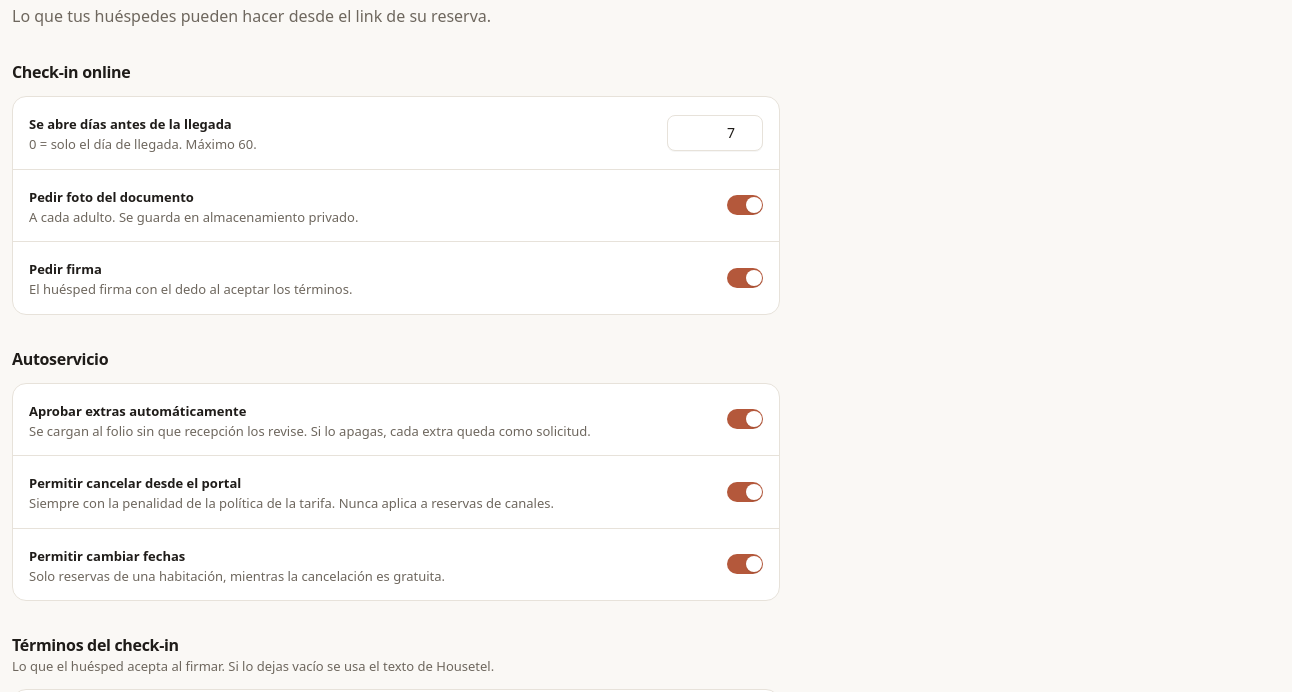
Test case: Guest portal settings › saves only what changed
Replace the text in the number field labelled "Se abre días antes de la llegada" with "3" at (715, 133), box [667,115,763,151]
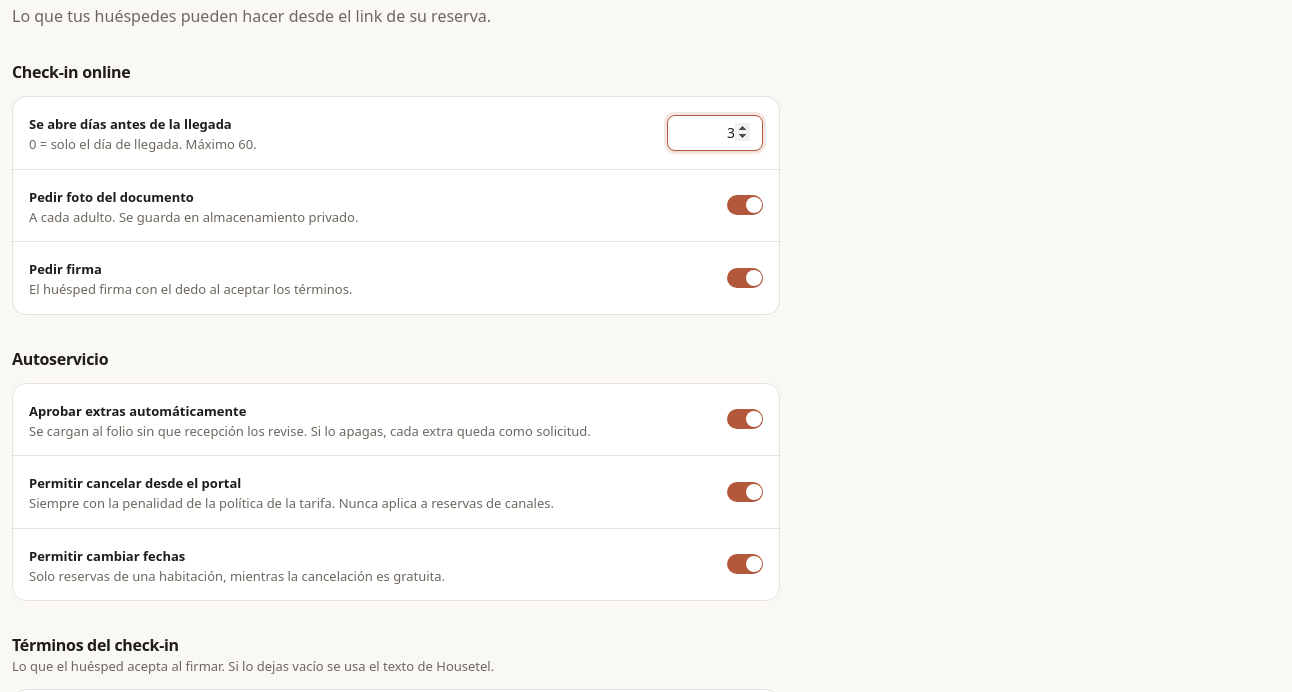
Click the switch named "Aprobar extras automáticamente" in the row of "Aprobar extras automáticamente" at (745, 419), box [727,409,763,429]
(page scrolled)
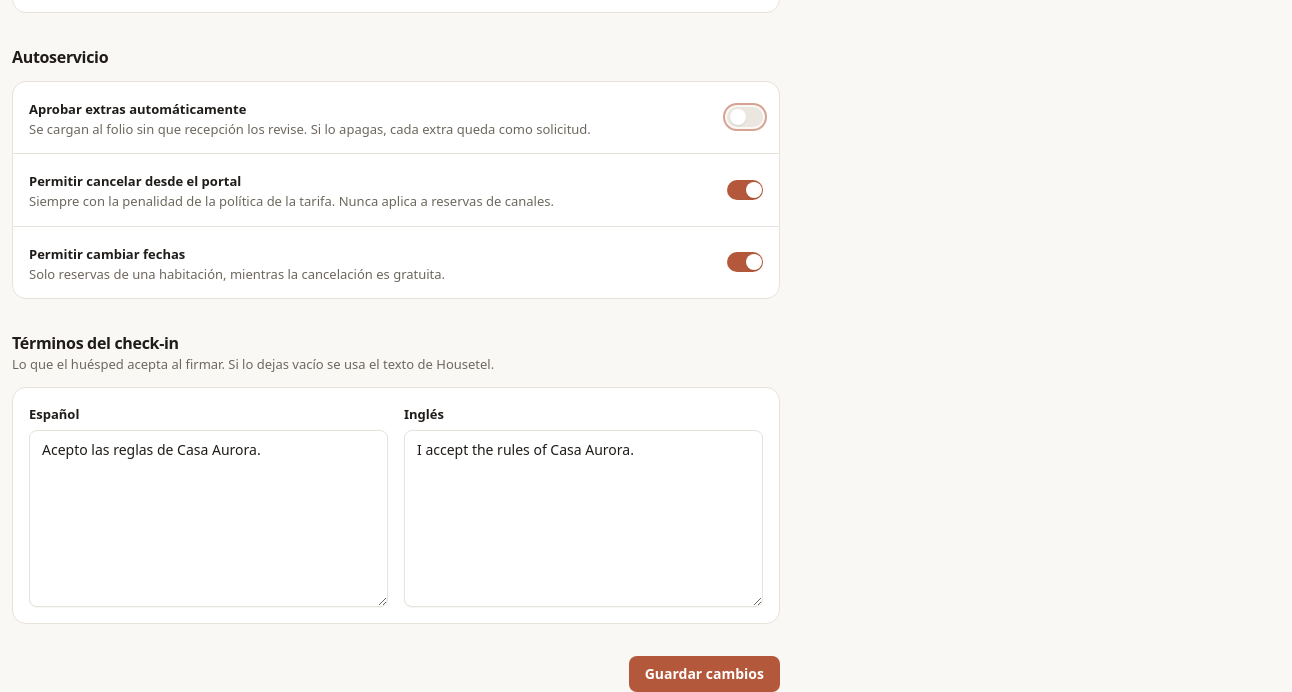
Click the button "Guardar cambios" at (704, 674), box [629,656,780,691]
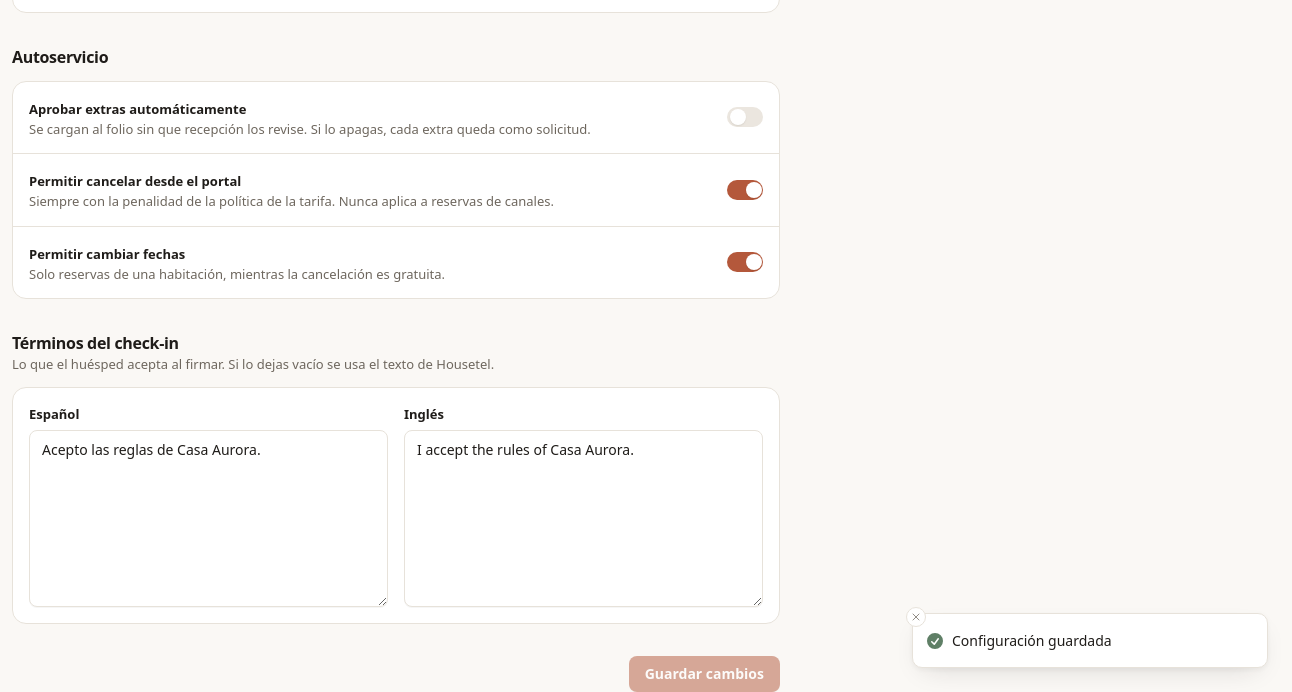
Expected: the text "Configuración guardada" is shown, [952,630,1112,651]
